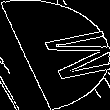M_W: (8, 25, 102, 85)
